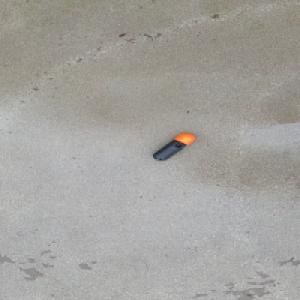PlasticPart: (151, 132, 195, 161)
